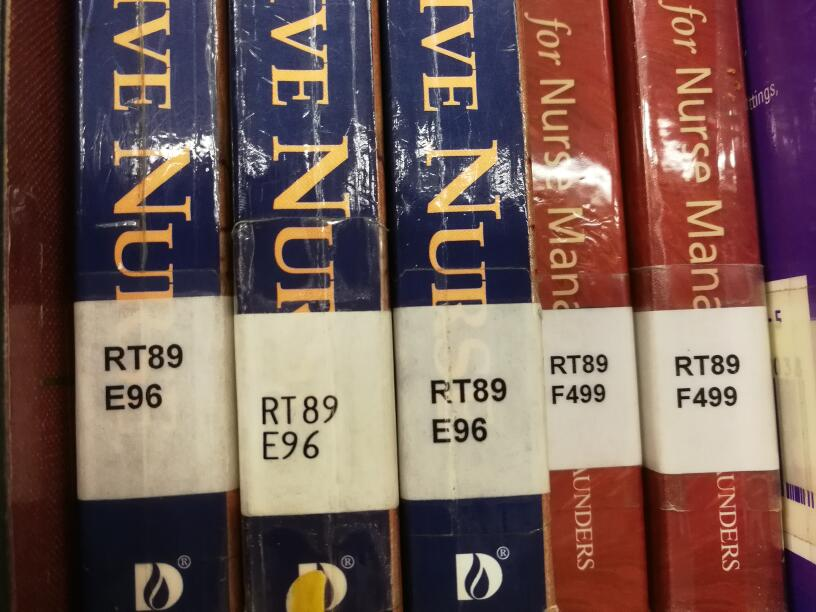booklabel: (102, 342, 187, 411), (259, 393, 341, 461), (428, 376, 510, 444), (668, 352, 742, 409), (545, 352, 611, 405)
